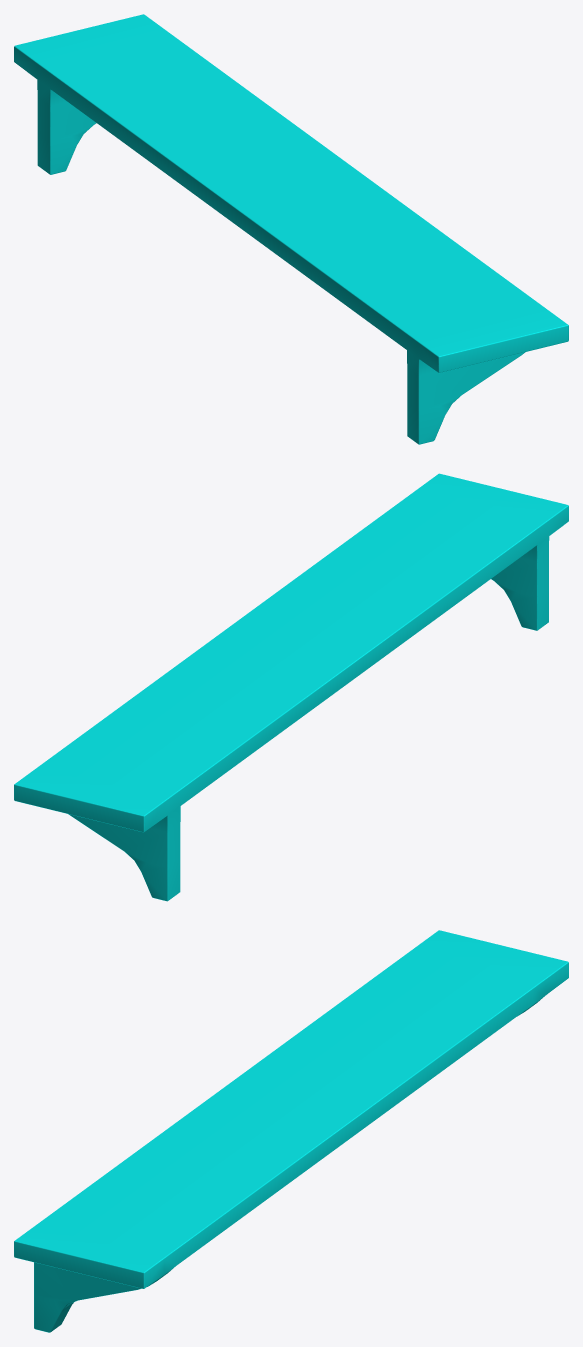
The model's file is Story_1_Bedroom_Bookshelf.fbx.
3 renders of one model, top to bottom at view 1: azimuth 30°, elevation 25°; view 2: azimuth 150°, elevation 25°; view 3: azimuth 330°, elevation 25°, orthographic.
Parts seen in each view (by area): view 1: Bookshelf; view 2: Bookshelf; view 3: Bookshelf.
Boxes of the visible parts, bbox=[...] form: Bookshelf: bbox=[14, 14, 568, 444]; Bookshelf: bbox=[14, 473, 568, 901]; Bookshelf: bbox=[14, 930, 568, 1332].
Size of the model in its own units: 10.76 by 8.12 by 60.52.
